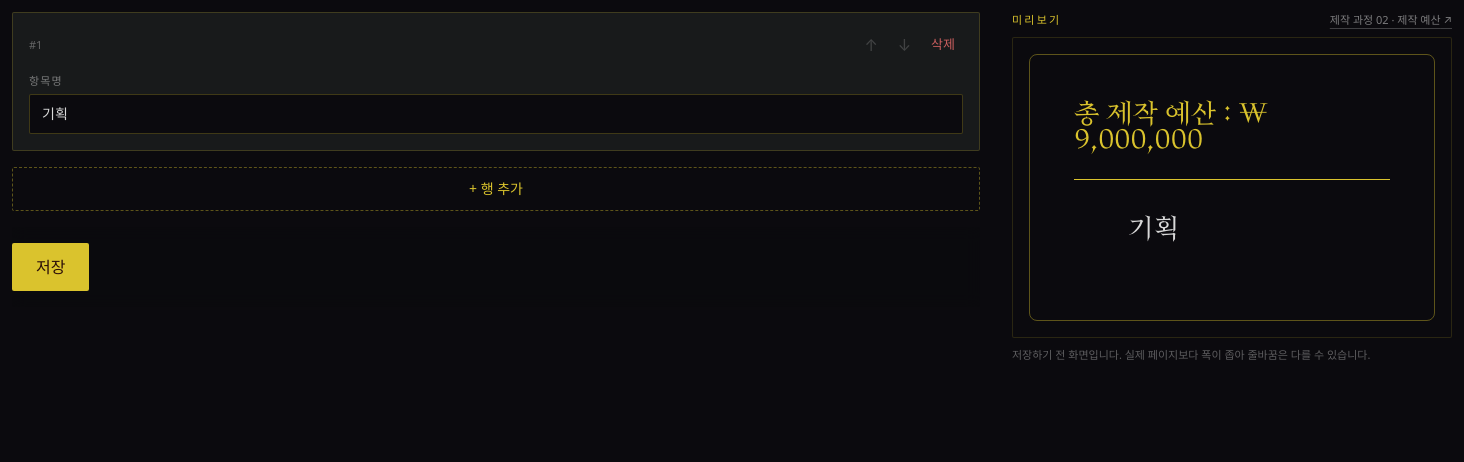
Test: ListEditor › 행 추가/삭제가 동작한다
The image size is (1464, 462).
Check: the number of fields is 1, box [29, 94, 963, 134]
Click the button "+ 행 추가" at (496, 188), box [12, 166, 980, 210]
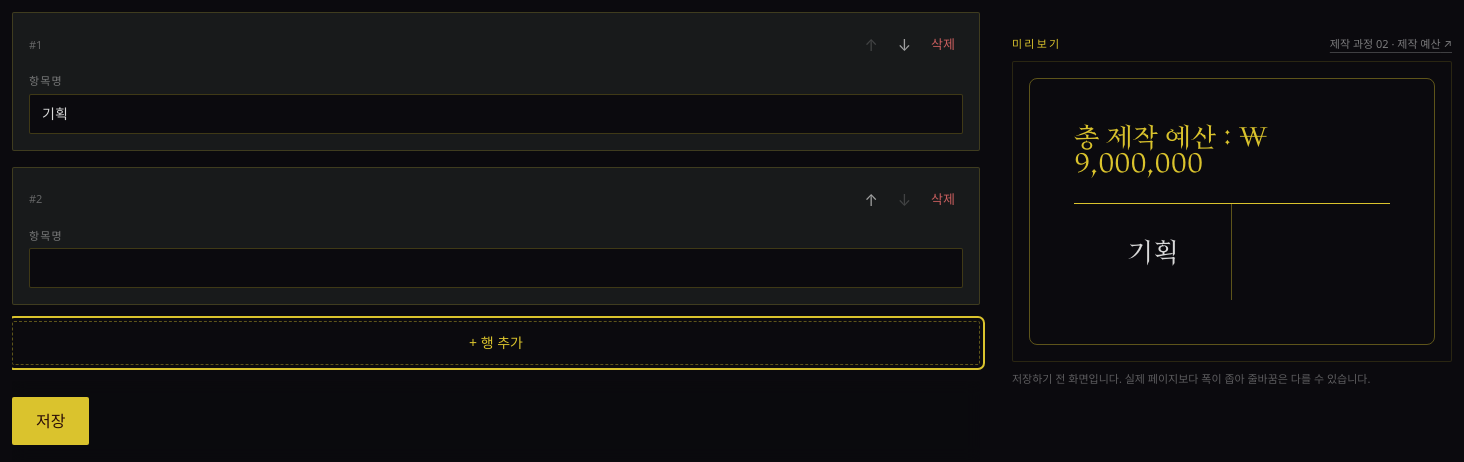
Check: the number of fields is 2, box [29, 94, 963, 134]; [29, 248, 963, 288]
Click the button with aria-label "행 삭제" at (943, 200), box [923, 184, 963, 216]
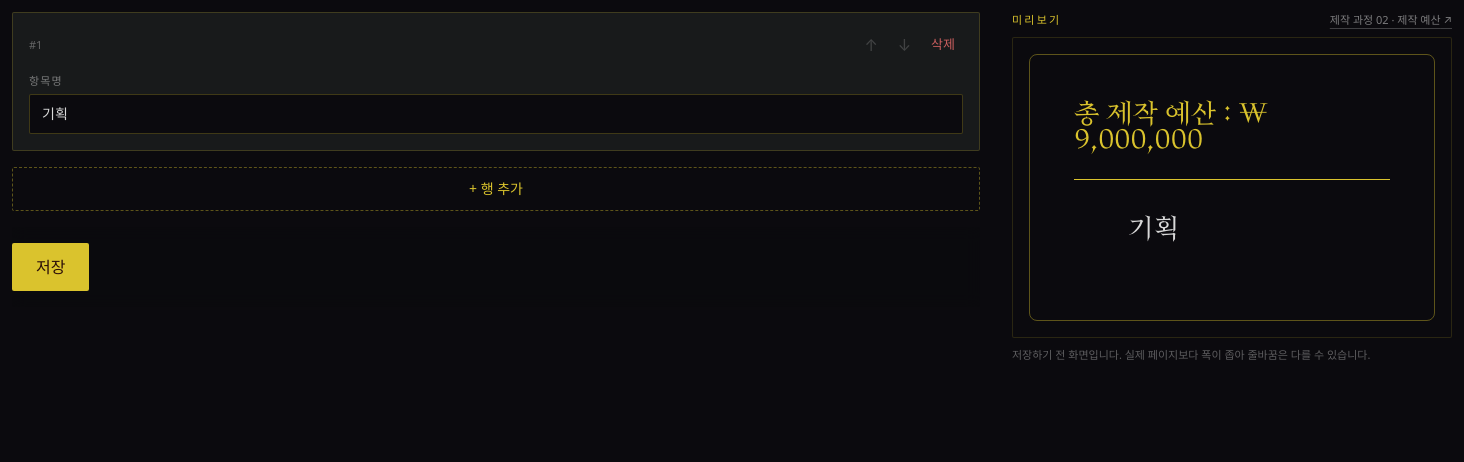
Check: the number of fields is 1, box [29, 94, 963, 134]
